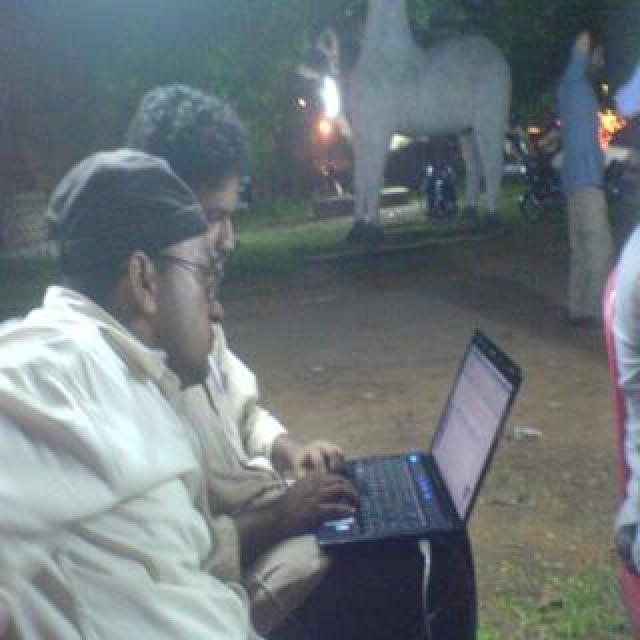laptop_computer: (318, 330, 522, 552)
